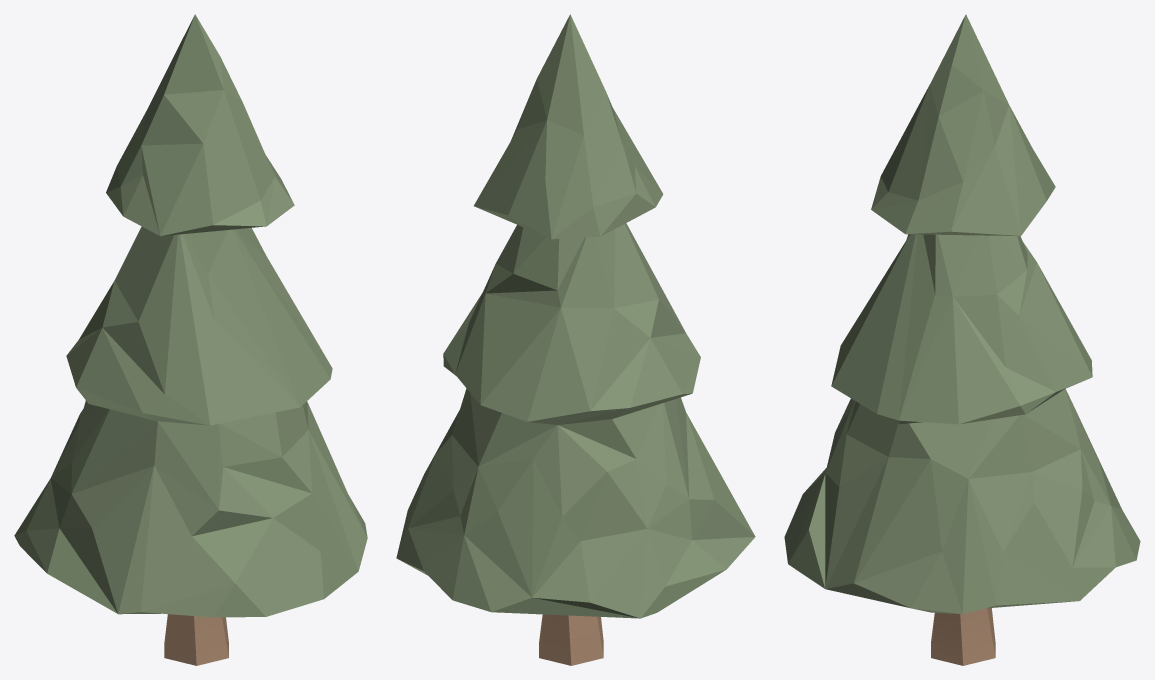
The model's file is Pine_Tree_1.fbx.
3 renders of one model, left to right at view 1: azimuth 30°, elevation 25°; view 2: azimuth 150°, elevation 25°; view 3: azimuth 270°, elevation 25°, orthographic.
Visible parts, largest first — view 1: Pine_Tree_1; view 2: Pine_Tree_1; view 3: Pine_Tree_1.
Boxes of the visible parts, box(x1,y1,x2,y2) form: Pine_Tree_1: box(14, 14, 367, 665); Pine_Tree_1: box(396, 14, 755, 665); Pine_Tree_1: box(784, 14, 1140, 665).
Size of the model in its own units: 1.86 by 3.71 by 1.88.
